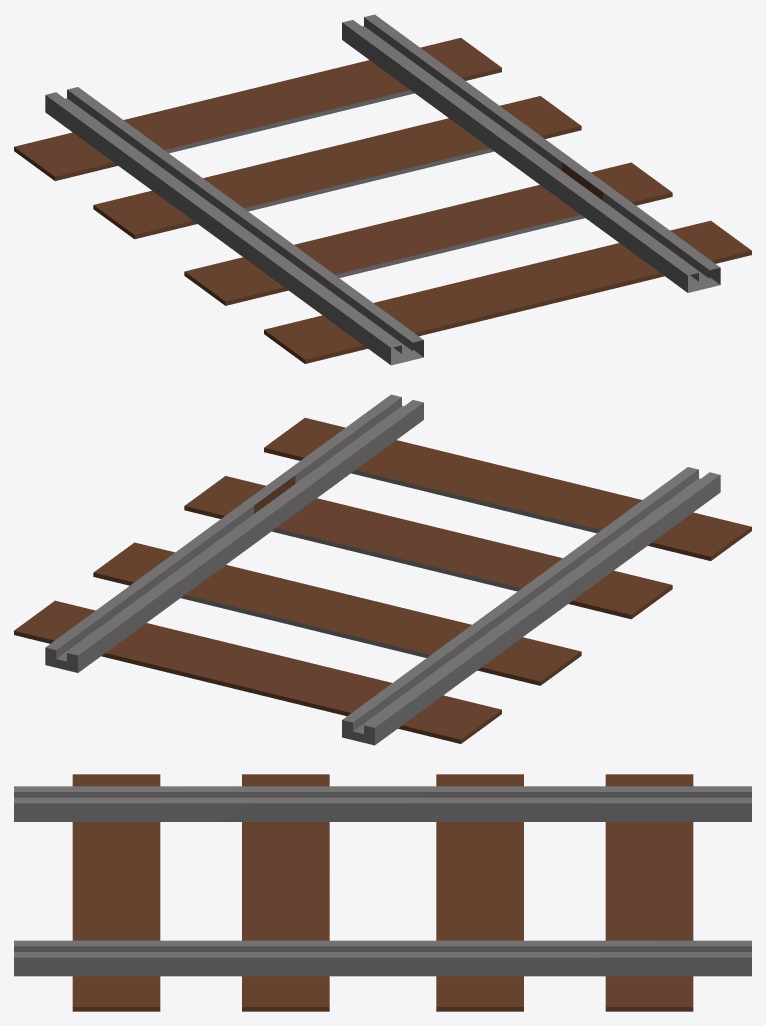
File: railroad-track-linear-piece.fbx
The picture shows the model from 3 angles, top to bottom: view 1: azimuth 30°, elevation 25°; view 2: azimuth 150°, elevation 25°; view 3: azimuth 270°, elevation 25°; orthographic projection. The views are drawn at different scales.
Parts seen in each view (by area): view 1: railroad-track-linear-piece; view 2: railroad-track-linear-piece; view 3: railroad-track-linear-piece.
Boxes of the visible parts, x1,y1,x2,y2 form: railroad-track-linear-piece: (14, 14, 751, 365); railroad-track-linear-piece: (14, 394, 751, 745); railroad-track-linear-piece: (14, 774, 751, 1011).
Size of the model in its own units: 448 by 20.9 by 600.
1 material, 1 textured.
